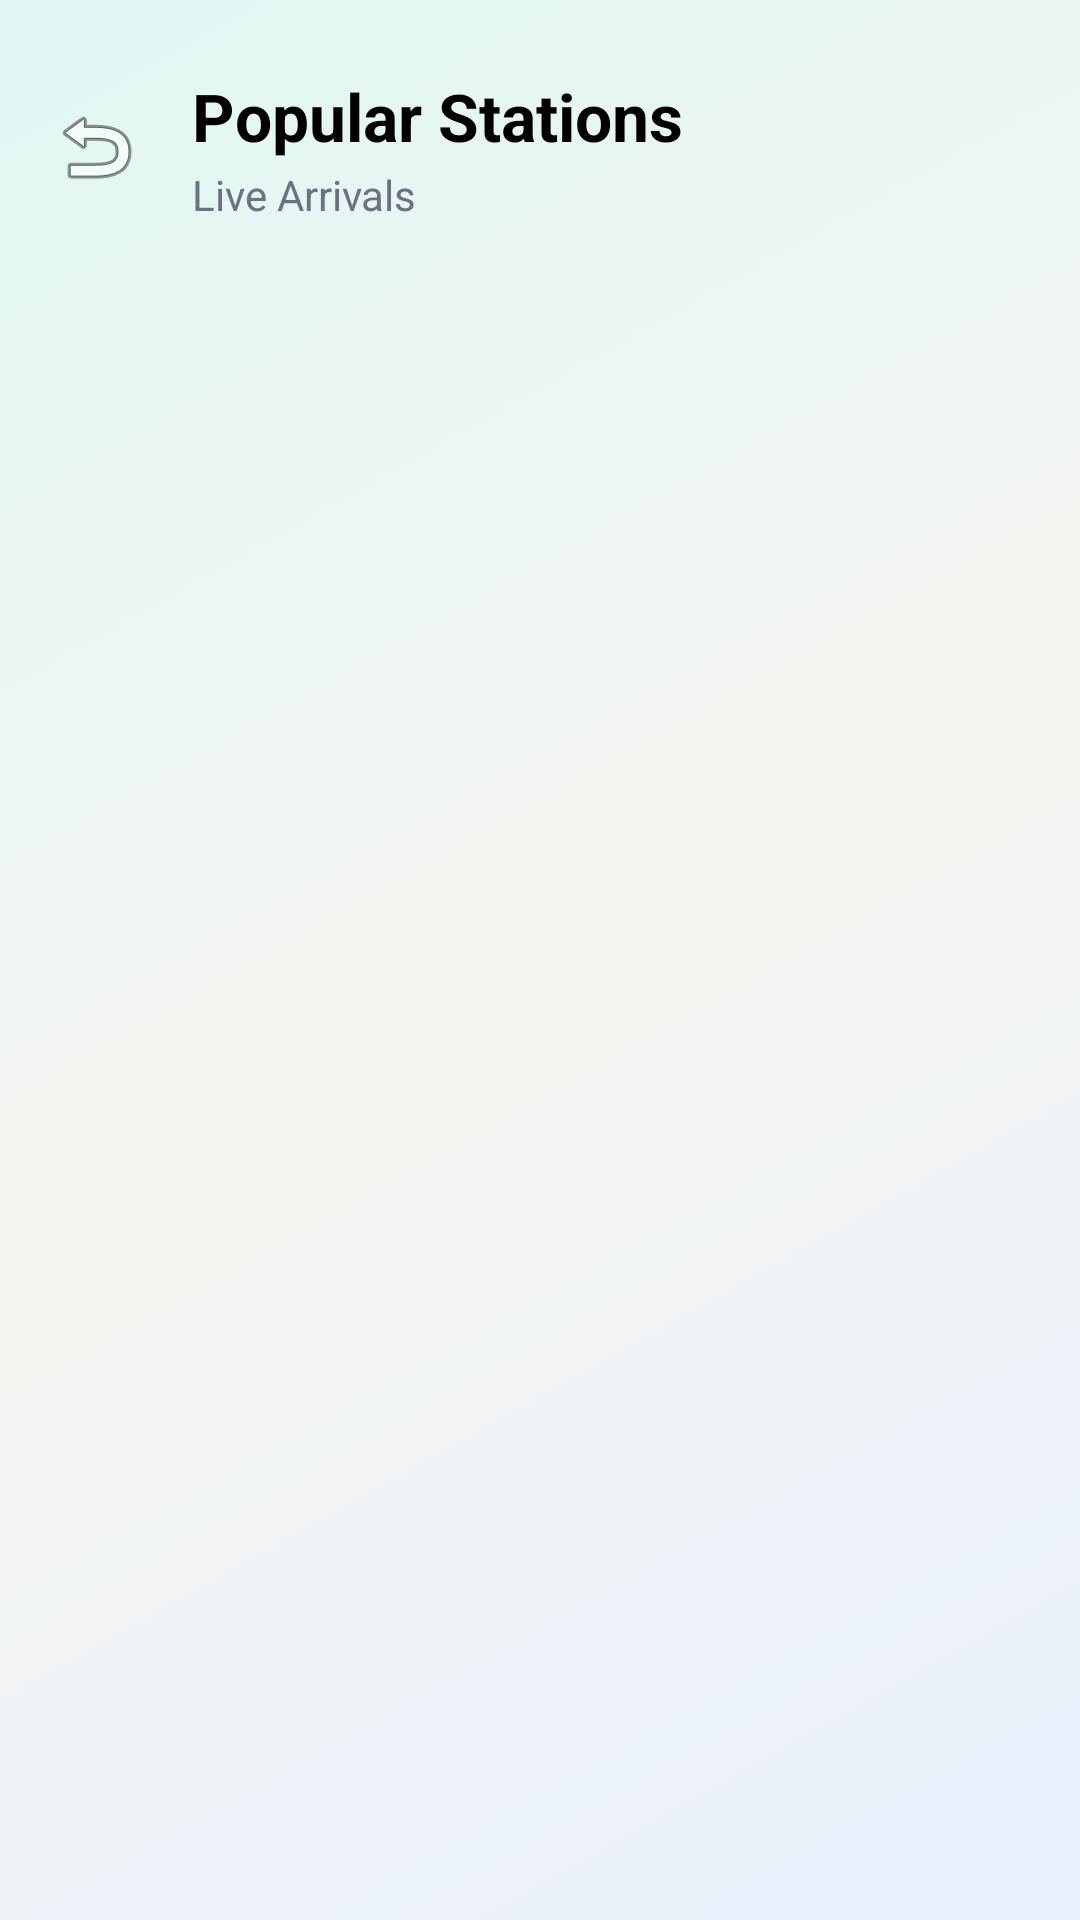

Icons on this 1080×1920 Android screen, each with its box as (x1, y1, x2, y2):
Back: (63, 116, 132, 179)
